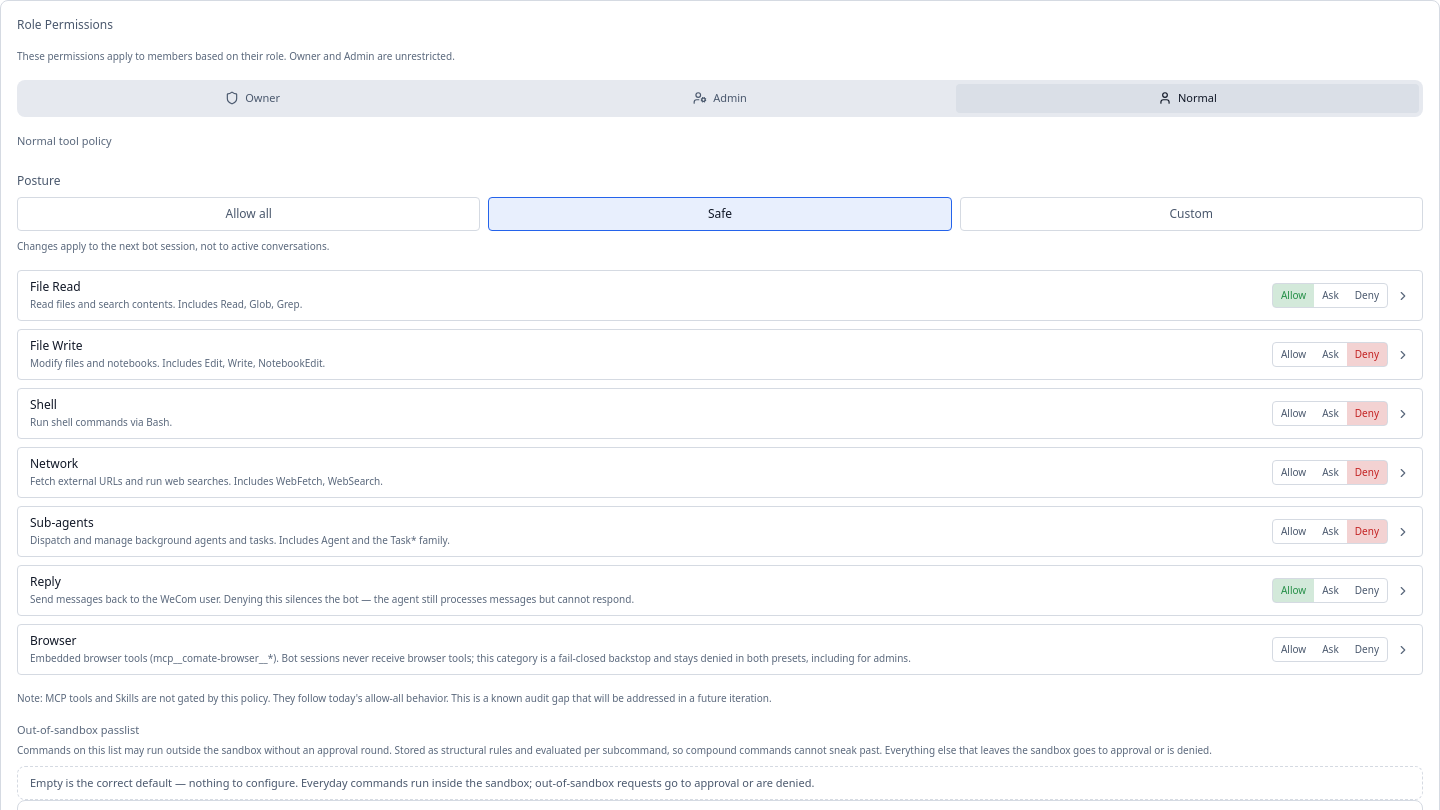
Test: BotRolePermissions › shows full-permission description for Admin and hides editors
The image size is (1440, 810).
Click the button "Admin": (720, 98) [488, 84, 952, 112]
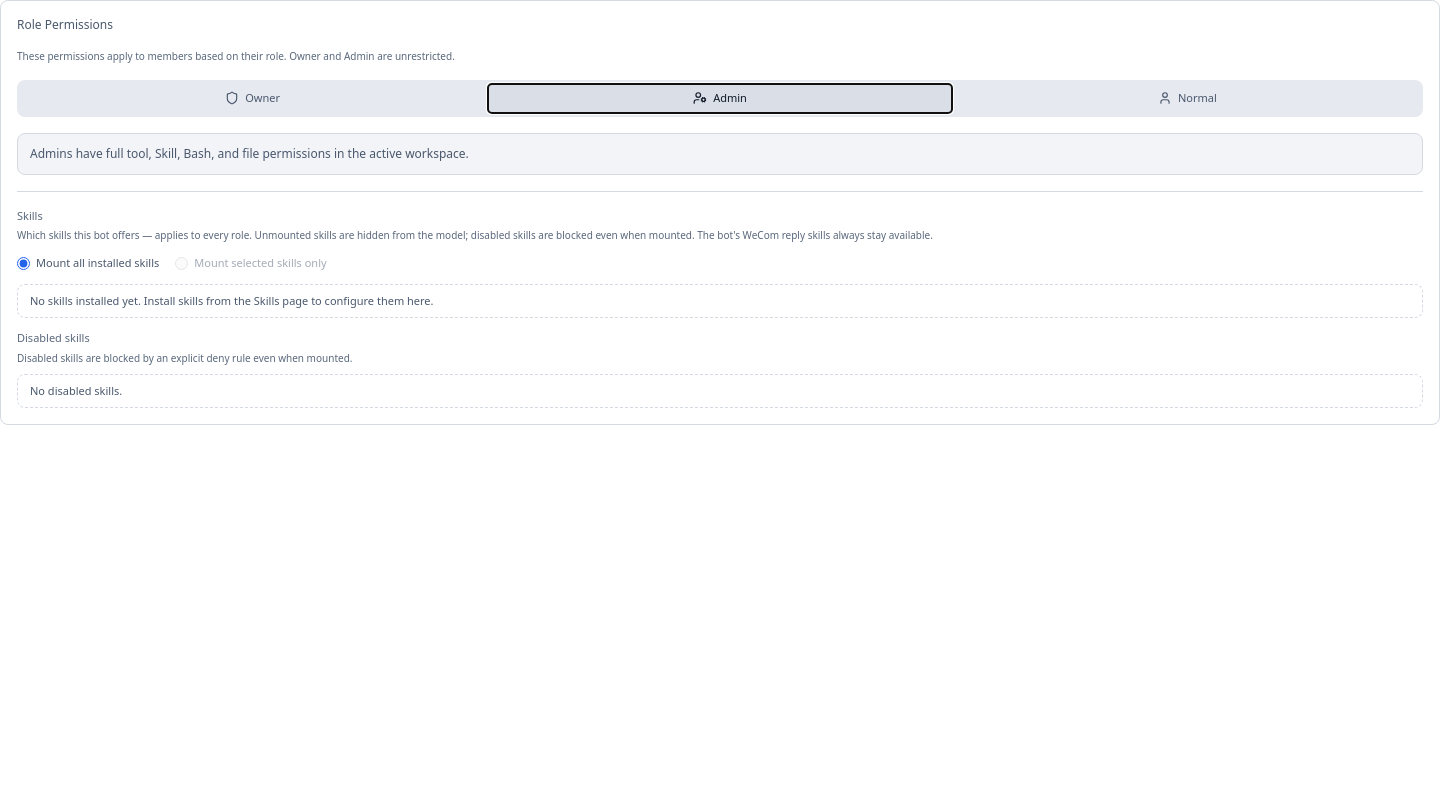
Result: the text "Admins have full tool" is shown at [30, 144, 469, 162]
